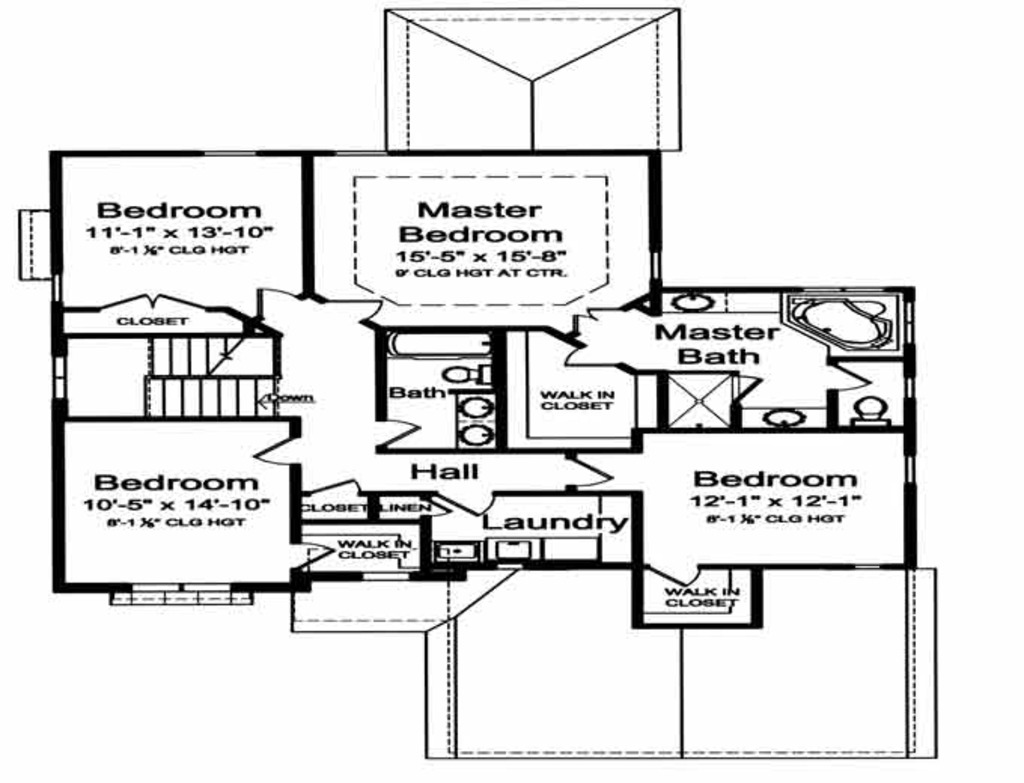door: (102, 292, 203, 318), (322, 286, 386, 321), (249, 284, 302, 325), (561, 449, 615, 489), (559, 343, 621, 376), (368, 416, 421, 448), (637, 559, 702, 585), (430, 490, 495, 516), (246, 439, 302, 469)
large_sink: (842, 392, 896, 433)
small_sink: (740, 401, 832, 437), (657, 289, 730, 311)
stairs: (137, 339, 283, 421)
tub: (785, 287, 897, 354), (376, 329, 497, 362)
windows: (100, 580, 254, 611), (45, 352, 73, 401)
